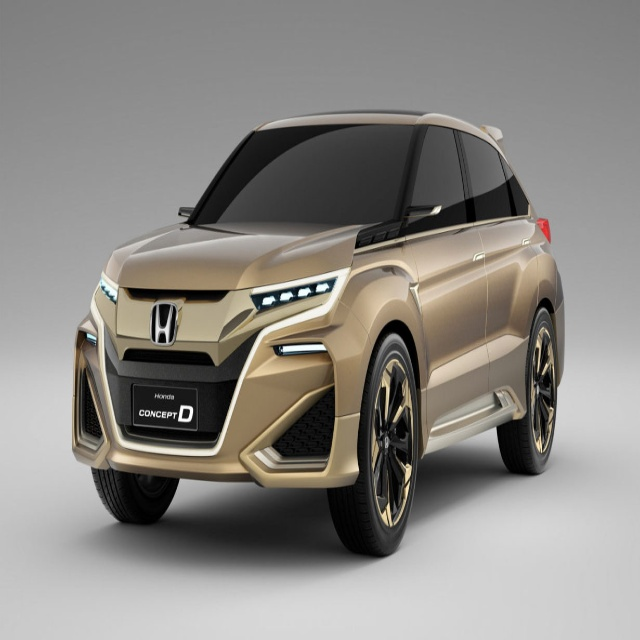Car: (72, 108, 565, 559)
